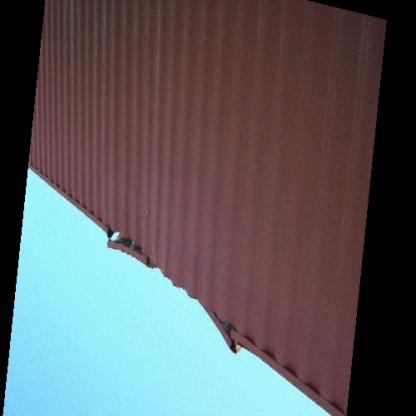Damage: (184, 290, 252, 376), (88, 219, 176, 284)
